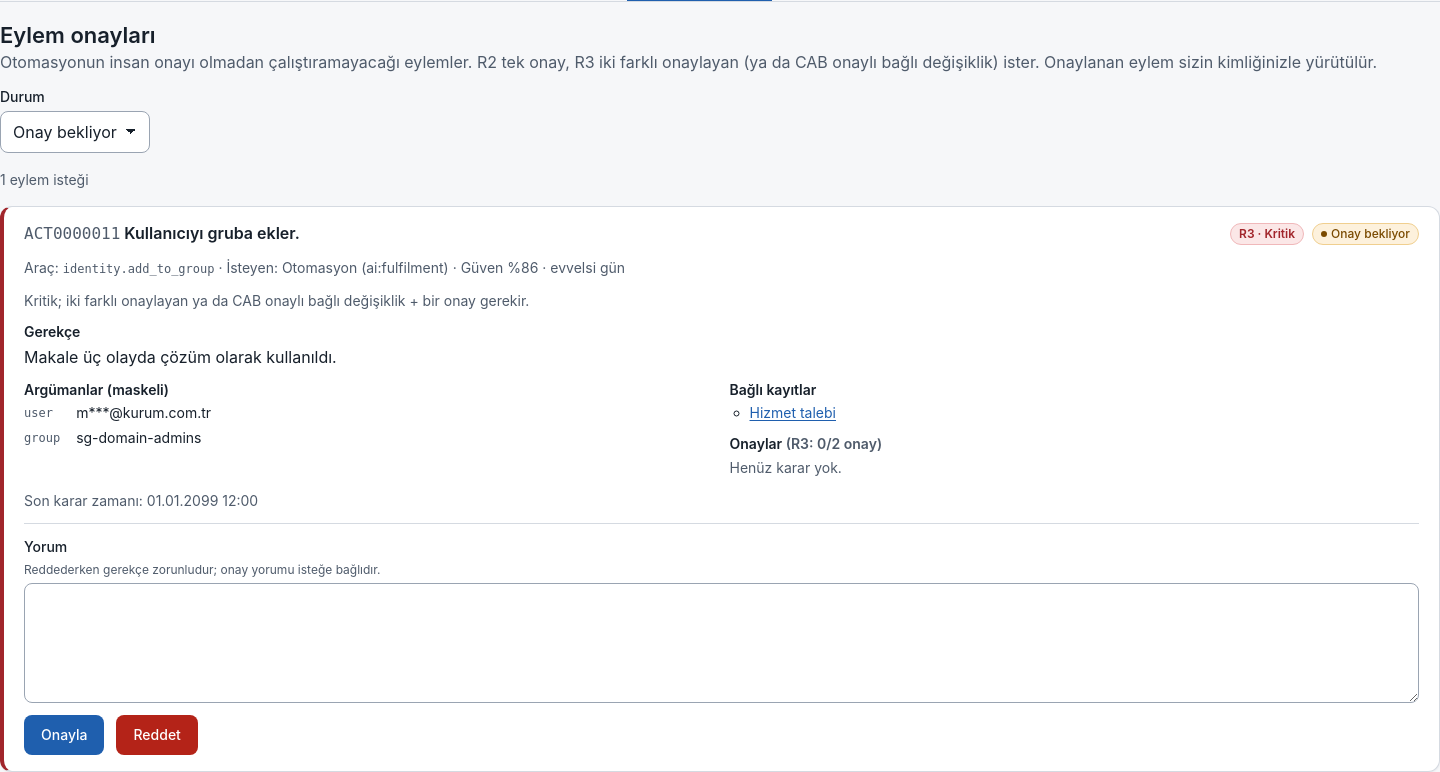
/onaylar — Eylem onayları sekmesi › R3 ilk onay: kaydedilir, ilerleme bildirilir
(page scrolled)
Click the button "Onayla". click: (64, 735)
box: [24, 715, 104, 755]
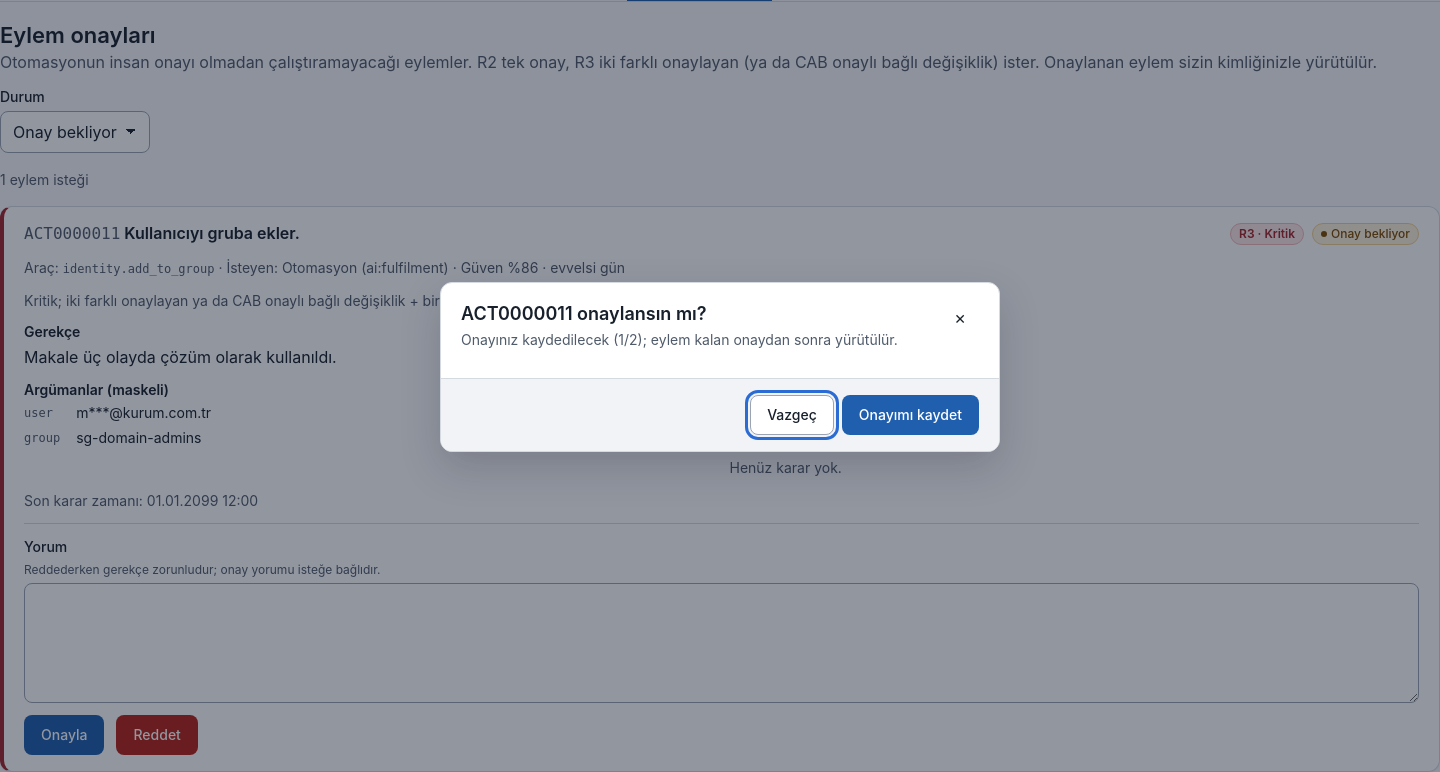
Now the dialog shows "(1/2)", box [461, 331, 898, 348]
Click the button "Onayımı kaydet". click: (910, 415)
box: [842, 395, 979, 435]
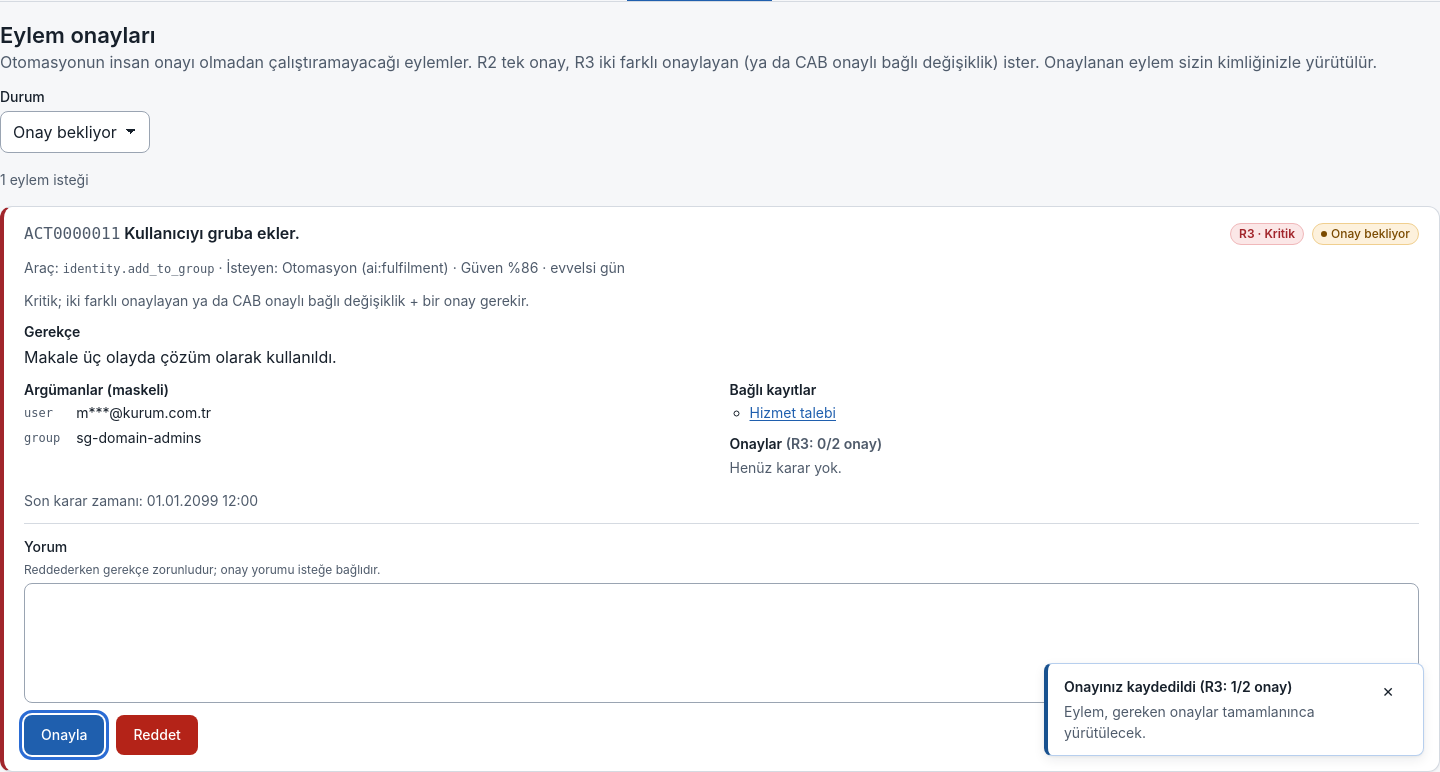
Now the text "Onayınız kaydedildi (R3: 1/2 onay)" is shown, box [1064, 678, 1293, 695]
